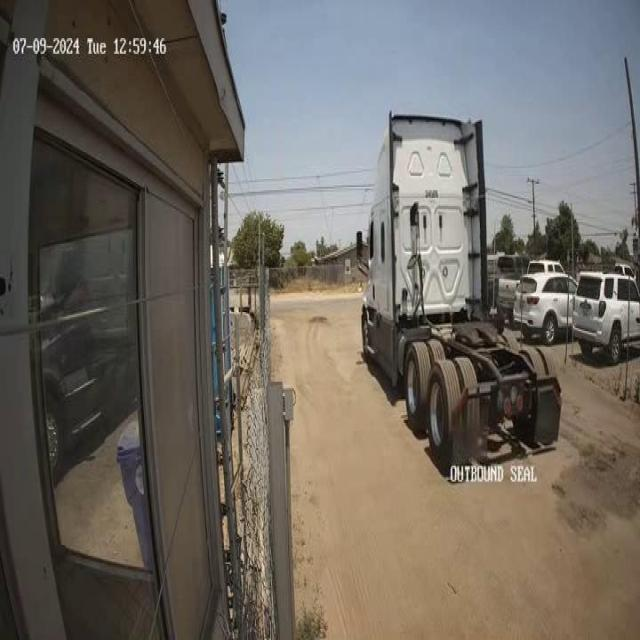TRUCK_OUT: (357, 109, 562, 474)
